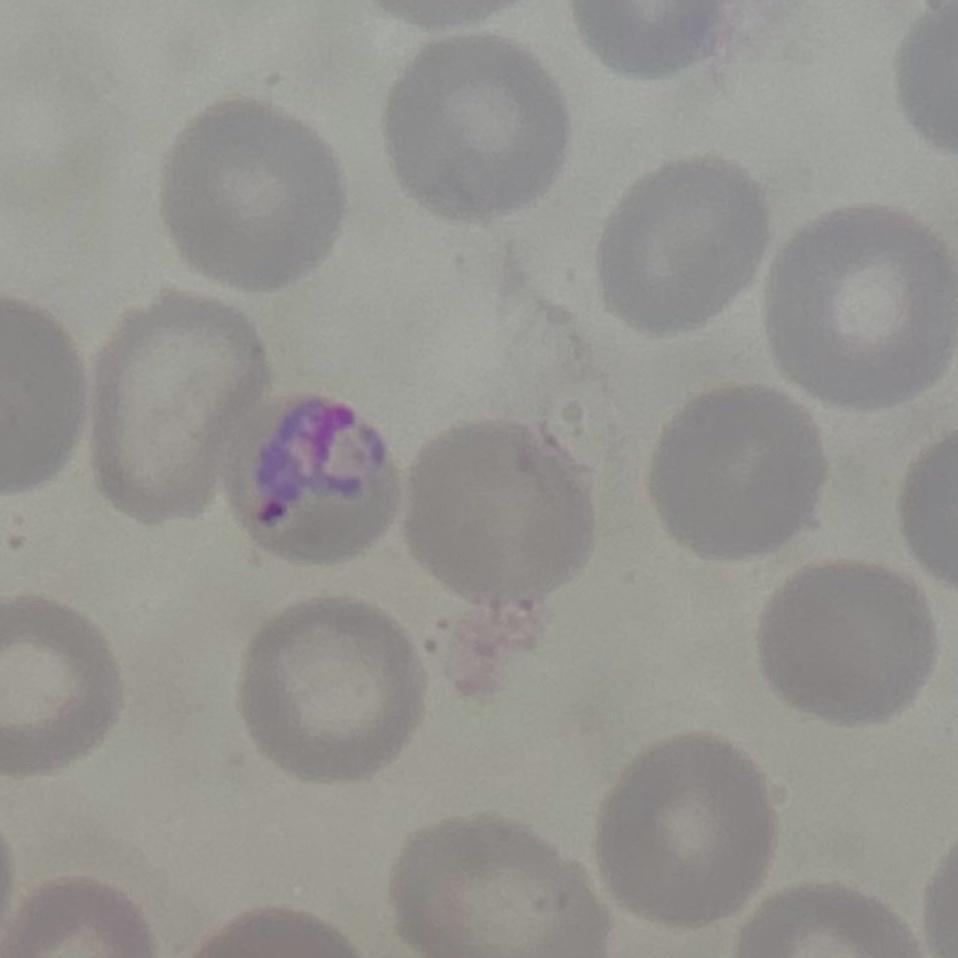Infected: (223, 396, 394, 557)
Uninfected: (83, 284, 267, 525), (763, 205, 958, 407), (400, 420, 600, 603), (243, 590, 423, 783), (390, 37, 571, 223), (597, 730, 771, 921), (167, 100, 344, 287), (395, 814, 614, 958), (603, 154, 770, 335), (658, 387, 826, 559), (758, 568, 936, 727), (0, 595, 118, 777)
